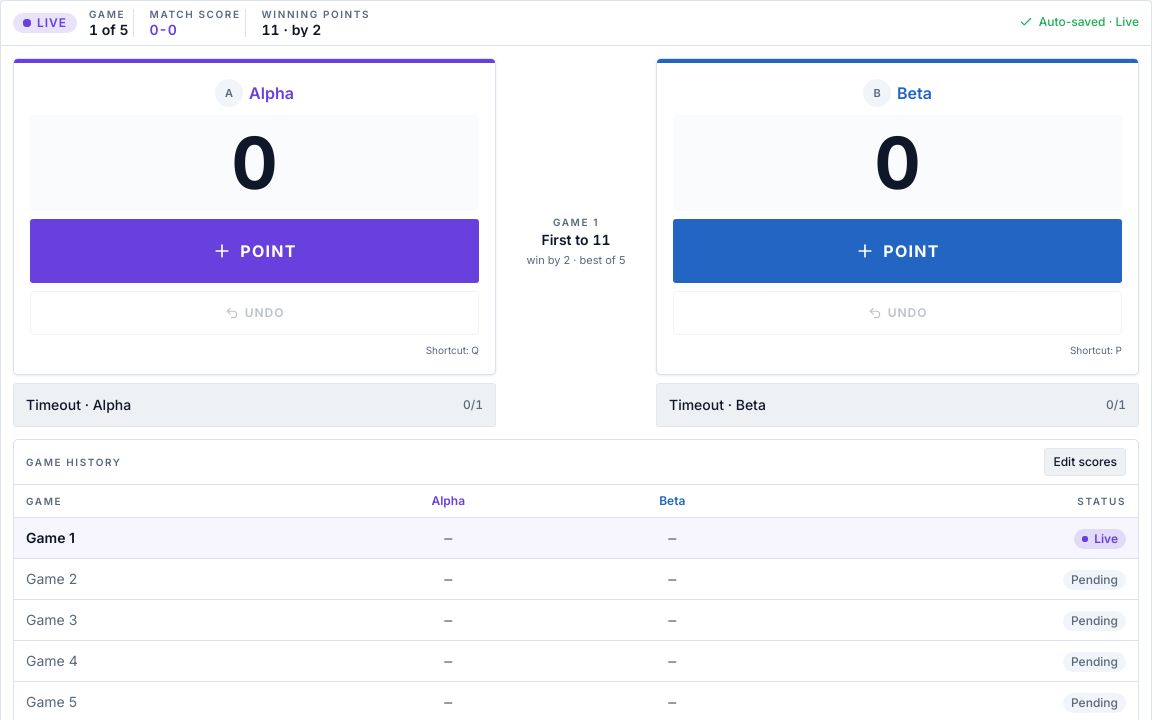
Test: TTConsole › point tap bumps the game, logs the rally, and speaks Game not Set
Click the button with test id "point-home" at x=254, y=251, box [30,219,479,283]
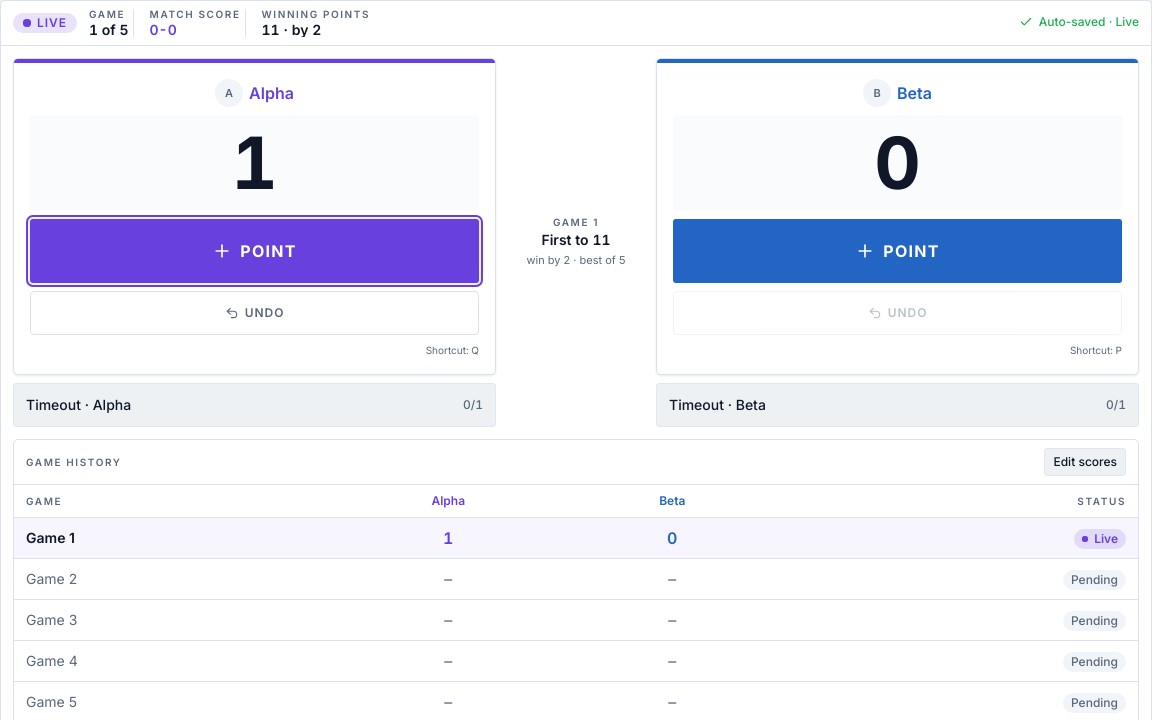
Expected: the text with test id "points-away" reads "0", [874,119,921,206]
Result: the text with test id "points-home" reads "1" at [231,119,278,206]
